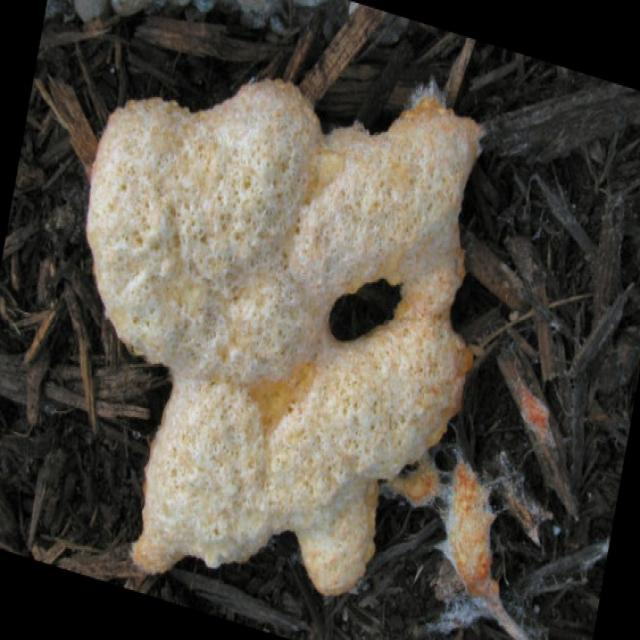Dog_vomit_slime_mold: (63, 73, 514, 622)
